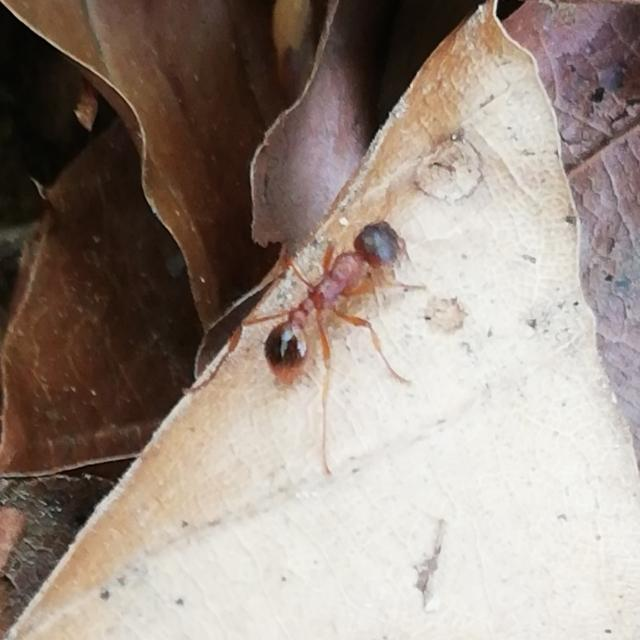Myrmica: (221, 186, 437, 406)
